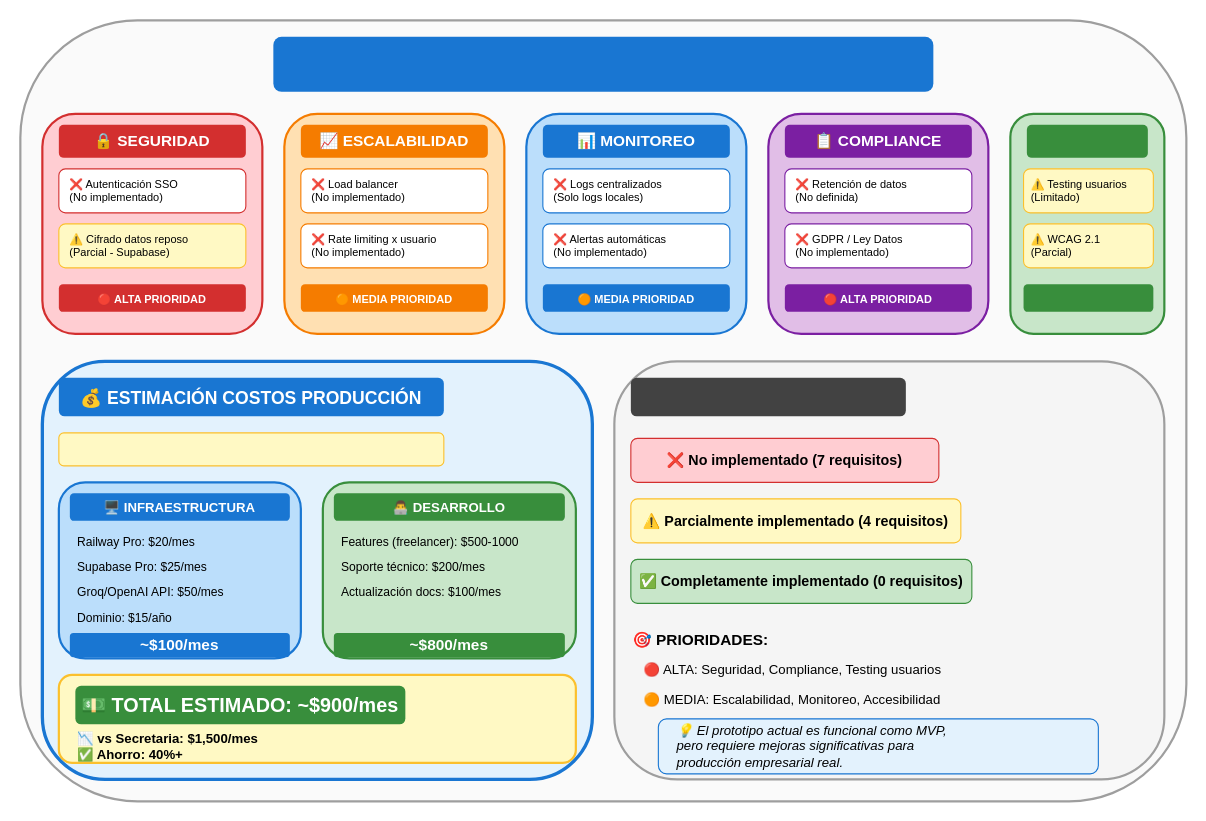
Some shapes in this 1206 by 821 pixel diagram are drawn without their labels. The shapes that lost their labels are listed below. From the top down, each one's centre as x and y in pixels, then its label:
At point 603,63: "🏢 REQUISITOS PARA PRODUCCIÓN EMPRESARIAL".
At point 1086,140: "🎨 UX".
At point 1088,297: "🟡 MEDIA-ALTA".
At point 767,396: "📋 RESUMEN DE ESTADO".
At point 251,449: "📊 Escenario: 1,000 usuarios | 10,000 consultas/mes".
